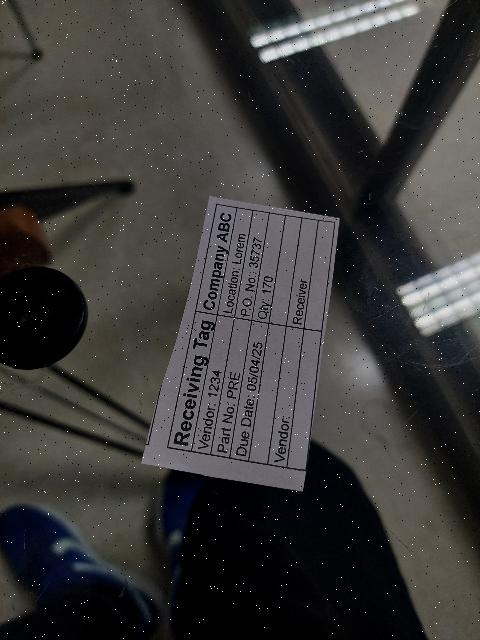PO no: (235, 210, 269, 320)
part no: (211, 317, 252, 457)
qty: (252, 213, 286, 324)
tags: (143, 197, 339, 491)
